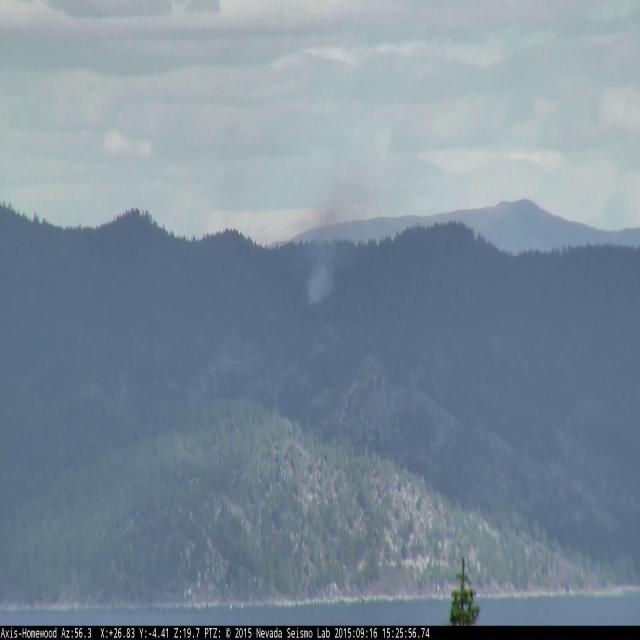smoke: (302, 128, 397, 310)
